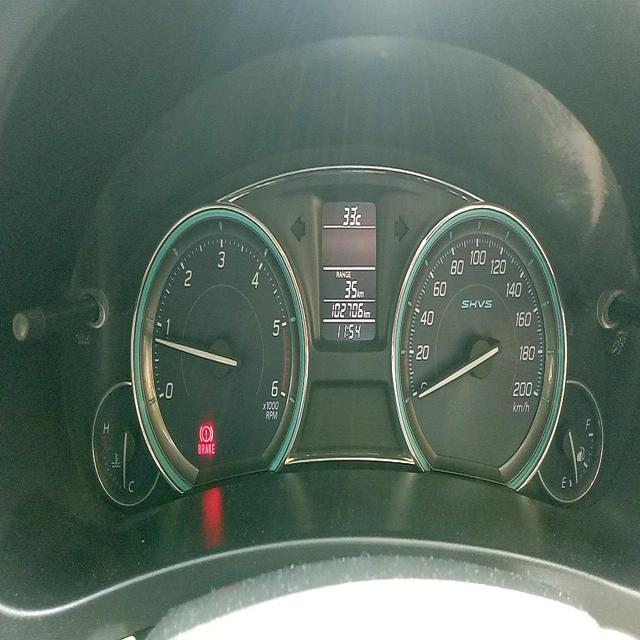odometer: (329, 299, 364, 320)
